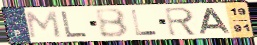A: (198, 7, 233, 35)
B: (93, 8, 131, 39)
L: (129, 8, 160, 36), (59, 10, 89, 38)
M: (24, 10, 63, 40)
R: (164, 6, 200, 37)
